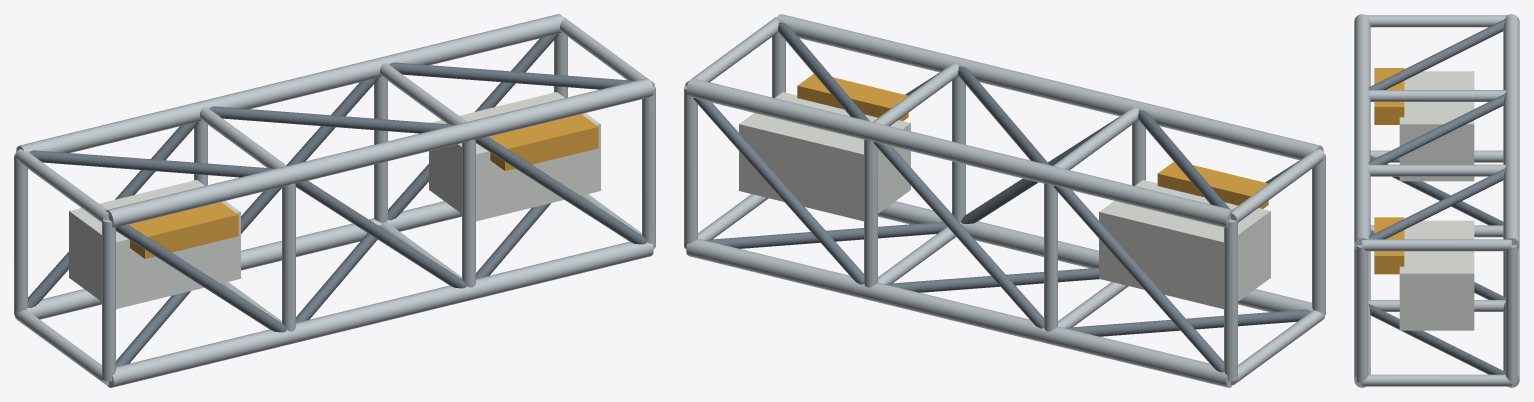
The model's file is iss_truss.p4.glb.
The picture shows the model from 3 angles, left to right: view 1: azimuth 30°, elevation 25°; view 2: azimuth 150°, elevation 25°; view 3: azimuth 270°, elevation 25°; orthographic projection. The views are drawn at different scales.
Parts seen in each view (by area): view 1: iss_truss.p4.mesh_Satin_aluminum, iss_truss.p4.mesh_Machined_steel, iss_truss.p4.mesh_Pale_thermal_blanket, iss_truss.p4.mesh_Gold_thermal_insulation; view 2: iss_truss.p4.mesh_Satin_aluminum, iss_truss.p4.mesh_Pale_thermal_blanket, iss_truss.p4.mesh_Machined_steel, iss_truss.p4.mesh_Gold_thermal_insulation; view 3: iss_truss.p4.mesh_Satin_aluminum, iss_truss.p4.mesh_Pale_thermal_blanket, iss_truss.p4.mesh_Machined_steel, iss_truss.p4.mesh_Gold_thermal_insulation.
Part boxes in pixels (x1=…): iss_truss.p4.mesh_Satin_aluminum: x1=14, y1=14, x2=655, y2=387; iss_truss.p4.mesh_Machined_steel: x1=27, y1=33, x2=647, y2=366; iss_truss.p4.mesh_Pale_thermal_blanket: x1=69, y1=92, x2=600, y2=309; iss_truss.p4.mesh_Gold_thermal_insulation: x1=128, y1=114, x2=598, y2=258; iss_truss.p4.mesh_Satin_aluminum: x1=684, y1=14, x2=1325, y2=387; iss_truss.p4.mesh_Pale_thermal_blanket: x1=739, y1=92, x2=1270, y2=309; iss_truss.p4.mesh_Machined_steel: x1=693, y1=22, x2=1310, y2=372; iss_truss.p4.mesh_Gold_thermal_insulation: x1=797, y1=74, x2=1268, y2=208; iss_truss.p4.mesh_Satin_aluminum: x1=1354, y1=14, x2=1519, y2=387; iss_truss.p4.mesh_Pale_thermal_blanket: x1=1399, y1=71, x2=1474, y2=330; iss_truss.p4.mesh_Machined_steel: x1=1368, y1=19, x2=1505, y2=374; iss_truss.p4.mesh_Gold_thermal_insulation: x1=1374, y1=68, x2=1404, y2=274.
Bounding box in the file's own units: 7.26 × 2.22 × 2.22.
